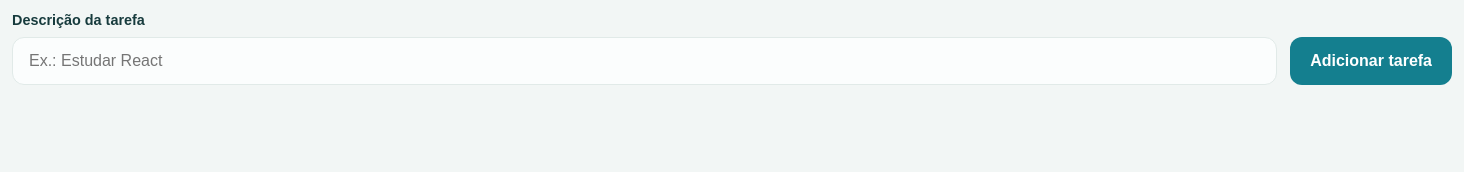
Scenario: Componente NovaTarefa › deve adicionar uma tarefa e limpar o campo
Type "Estudar Jest" into the field labelled "Descrição da tarefa".
click(644, 61); type("Estudar Jest")  # box [12,37,1277,85]
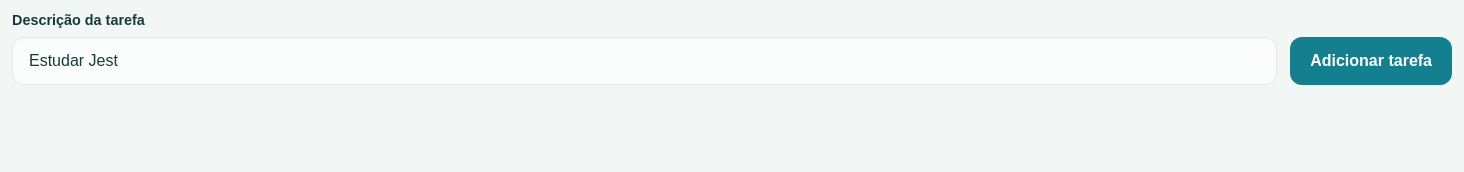
Click the button "Adicionar tarefa".
click(1371, 61)  # box [1290,37,1452,85]
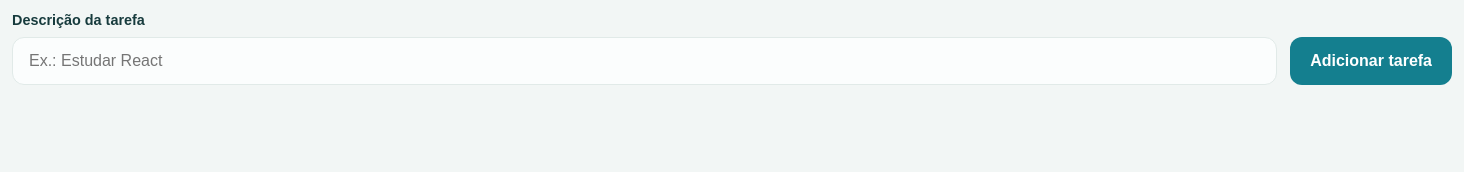
Expected: the field labelled "Descrição da tarefa" is empty, [12,37,1277,85]
